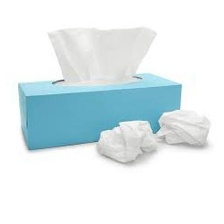book: (12, 68, 186, 154)
tissue: (42, 19, 162, 88), (91, 115, 164, 167), (152, 103, 215, 152)
